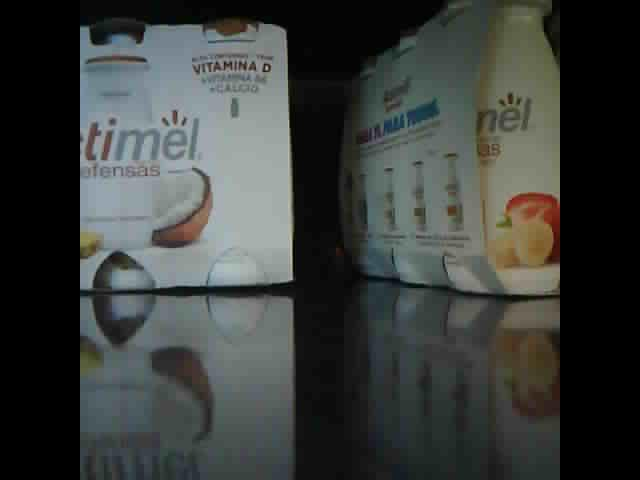actimel: (338, 1, 560, 298), (79, 17, 296, 288)
